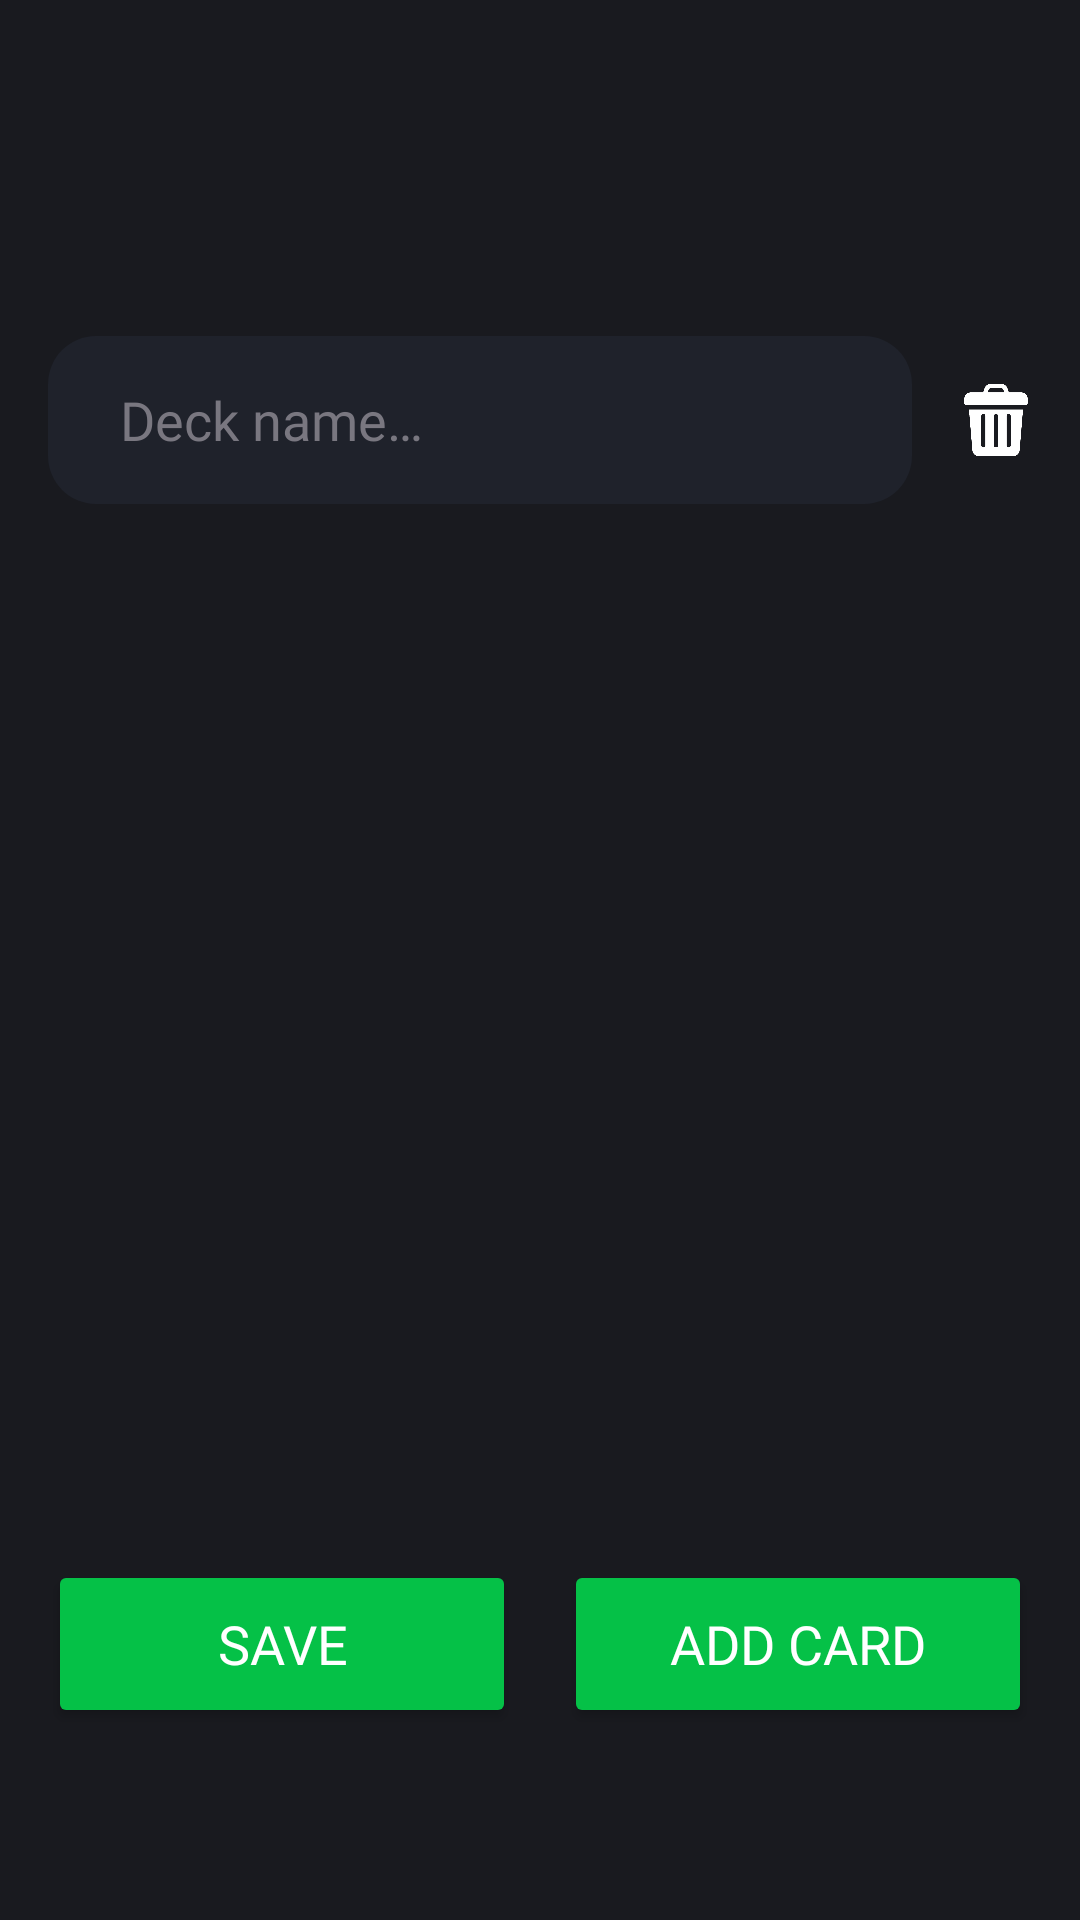

Named icons in this screenshot (1080px×1920px) and their bounding boxes, (x1=x1, y1=y1, x2=x2, y2=y2):
trash: (x1=964, y1=384, x2=1028, y2=456)
